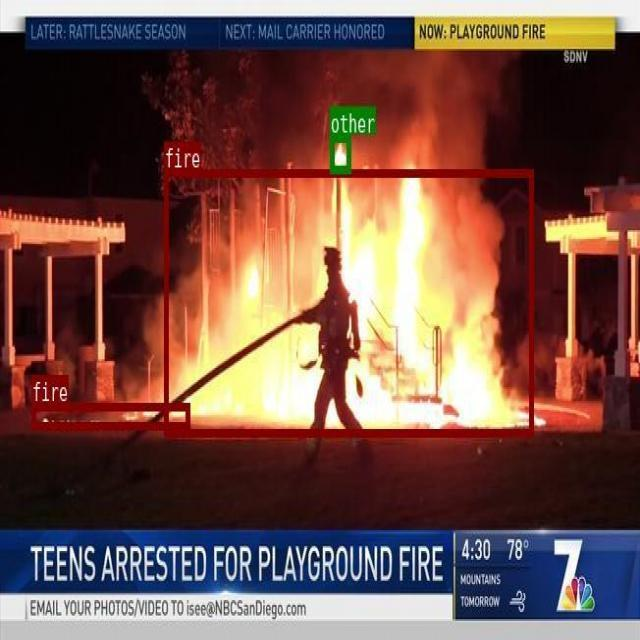fire: (164, 168, 533, 434), (31, 403, 189, 428)
